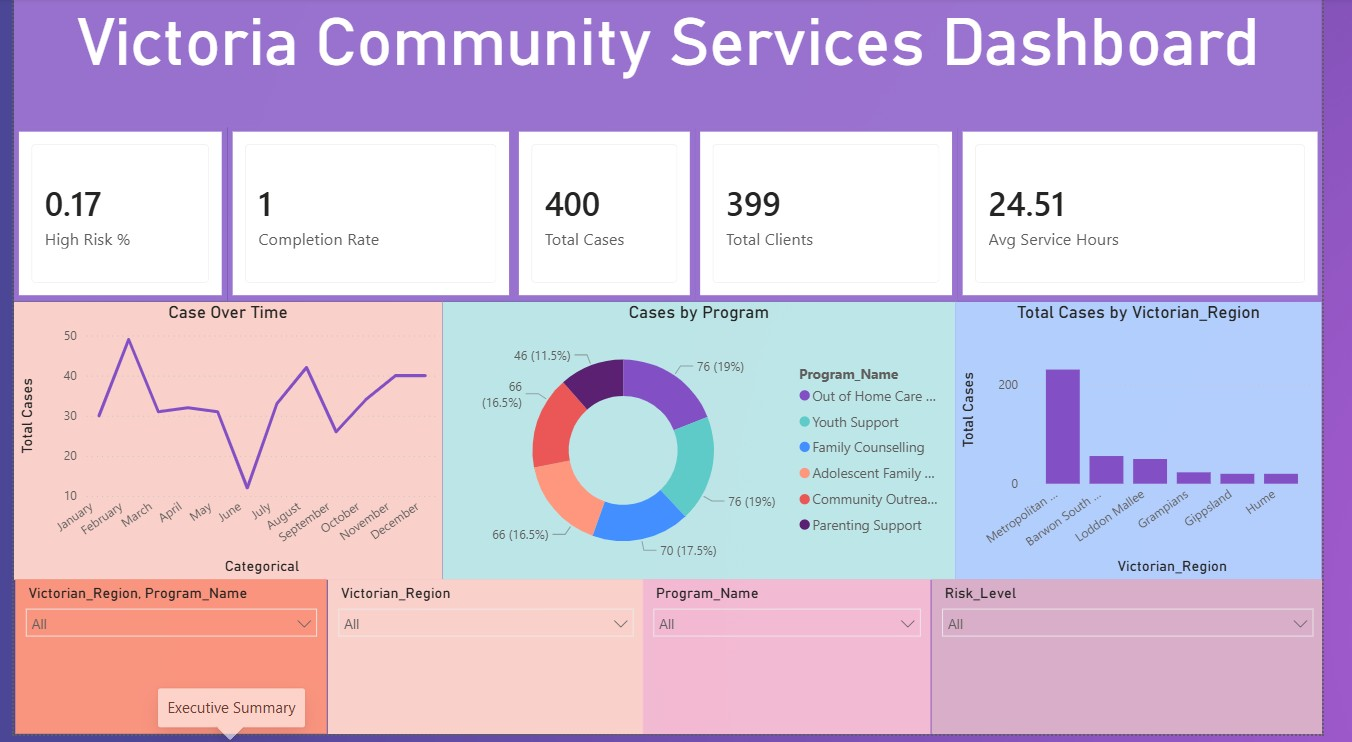

This screenshot's page, from the dashboard's own definition file:
{"tool":"powerbi","page":{"name":"Executive Summary ","canvas":[1280,720],"ordinal":0},"visuals":[{"type":"cardVisual","fields":{"Data":["Victoria_Service_Data.High Risk Cases"]},"box":[0,126.4,208.8,170.3],"z":0},{"type":"cardVisual","fields":{"Data":["Victoria_Service_Data.Avg Service Hours"]},"box":[923.1,126.4,357.2,170.3],"z":1000},{"type":"cardVisual","fields":{"Data":["Victoria_Service_Data.Completion Rate"]},"box":[208.8,126.4,280.2,170.3],"z":2000},{"type":"cardVisual","fields":{"Data":["Victoria_Service_Data.Total Cases"]},"box":[489,126.4,177.2,170.3],"z":3000},{"type":"cardVisual","fields":{"Data":["Victoria_Service_Data.Total Clients"]},"box":[666.2,126.4,256.9,170.3],"z":4000},{"type":"lineChart","title":"Case Over Time","fields":{"Category":["Calendar.Date.Variation.Date Hierarchy.Month"],"Y":["Victoria_Service_Data.Total Cases"]},"box":[0,296.7,419,272],"z":5000},{"type":"donutChart","title":"Cases by Program","fields":{"Category":["Victoria_Service_Data.Program_Name"],"Y":["Victoria_Service_Data.Total Cases"]},"box":[419,296.7,501.4,272],"z":6000},{"type":"clusteredColumnChart","fields":{"Category":["Victoria_Service_Data.Victorian_Region"],"Y":["Victoria_Service_Data.Total Cases"]},"box":[920.4,296.7,358.5,272],"z":7000},{"type":"slicer","fields":{"Values":["Victoria_Service_Data.Victorian_Region","Victoria_Service_Data.Program_Name"]},"box":[1.4,568.7,305,151.1],"z":8000},{"type":"slicer","fields":{"Values":["Victoria_Service_Data.Victorian_Region"]},"box":[306.4,568.7,308.9,152],"z":9000},{"type":"slicer","fields":{"Values":["Victoria_Service_Data.Program_Name"]},"box":[615.4,568.7,281.6,152.5],"z":10000},{"type":"slicer","fields":{"Values":["Victoria_Service_Data.Risk_Level"]},"box":[897,568.7,383.3,152.5],"z":11000},{"type":"textbox","box":[0,0,1279.1,81.9],"z":12000},{"type":"textbox","box":[0,79.5,1279.1,46.5],"z":12001}]}

Visuals, with their boxes in screenshot pixels (x1, y1, x2, y2), scaled from the page's 1280x720 canvas onto the 1352x742 screenshot:
cardVisual - Victoria_Service_Data.High Risk Cases: bbox(0, 130, 221, 306)
cardVisual - Victoria_Service_Data.Avg Service Hours: bbox(975, 130, 1351, 306)
cardVisual - Victoria_Service_Data.Completion Rate: bbox(221, 130, 517, 306)
cardVisual - Victoria_Service_Data.Total Cases: bbox(517, 130, 704, 306)
cardVisual - Victoria_Service_Data.Total Clients: bbox(704, 130, 975, 306)
"Case Over Time" lineChart: bbox(0, 306, 443, 586)
"Cases by Program" donutChart: bbox(443, 306, 972, 586)
clusteredColumnChart - Victoria_Service_Data.Victorian_Region x Victoria_Service_Data.Total Cases: bbox(972, 306, 1351, 586)
slicer - Victoria_Service_Data.Victorian_Region x Victoria_Service_Data.Program_Name: bbox(1, 586, 324, 741)
slicer - Victoria_Service_Data.Victorian_Region: bbox(324, 586, 650, 741)
slicer - Victoria_Service_Data.Program_Name: bbox(650, 586, 947, 741)
slicer - Victoria_Service_Data.Risk_Level: bbox(947, 586, 1351, 741)
textbox: bbox(0, 0, 1351, 84)
textbox: bbox(0, 82, 1351, 130)
